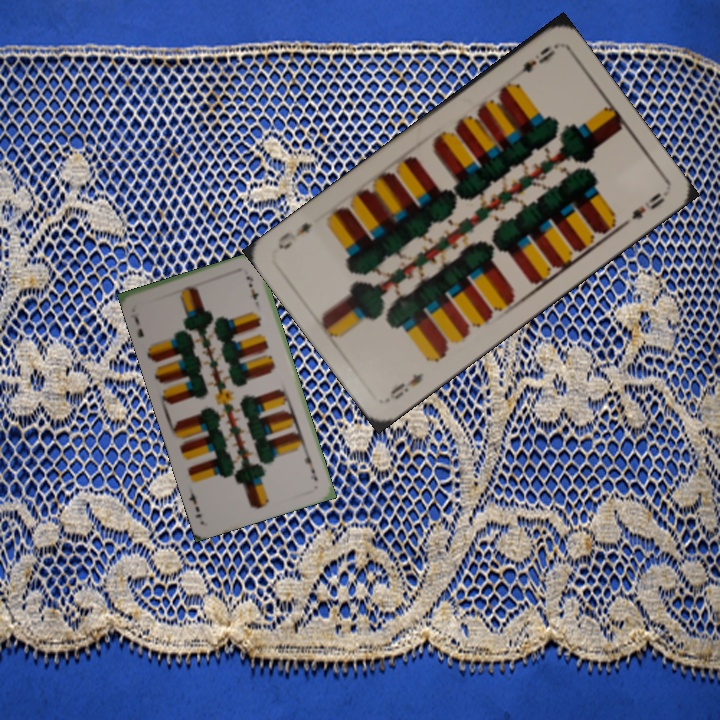E7: (300, 447, 320, 484), (128, 310, 146, 340)
E9: (506, 42, 558, 83), (383, 368, 425, 404)
